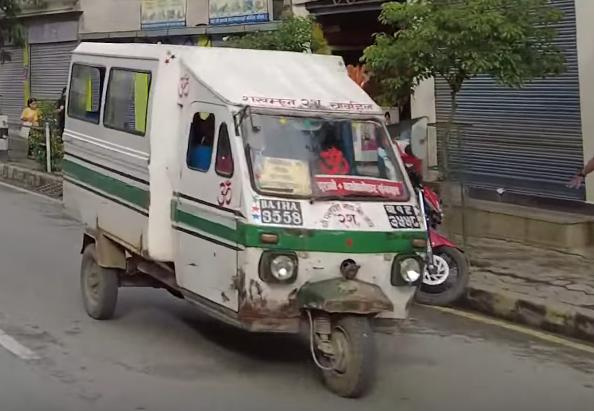tempo: (62, 35, 440, 399)
